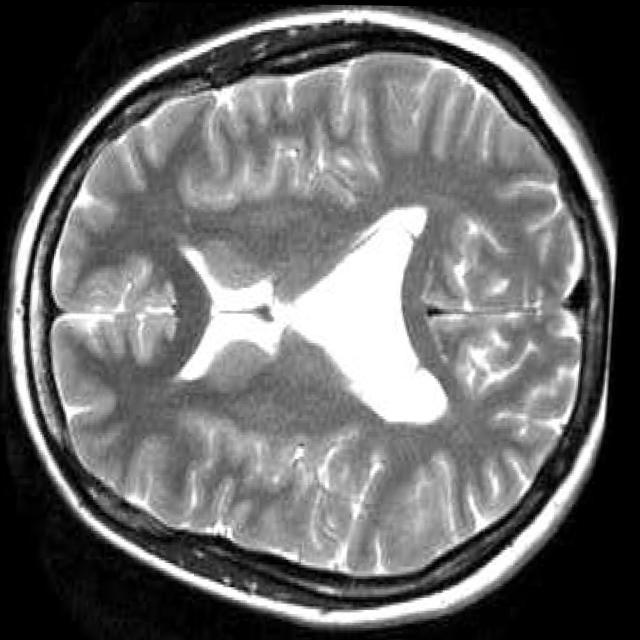Tumor: (294, 209, 451, 425)
